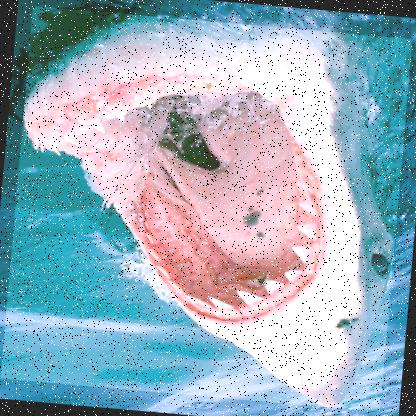white-shark: (0, 4, 413, 411)
